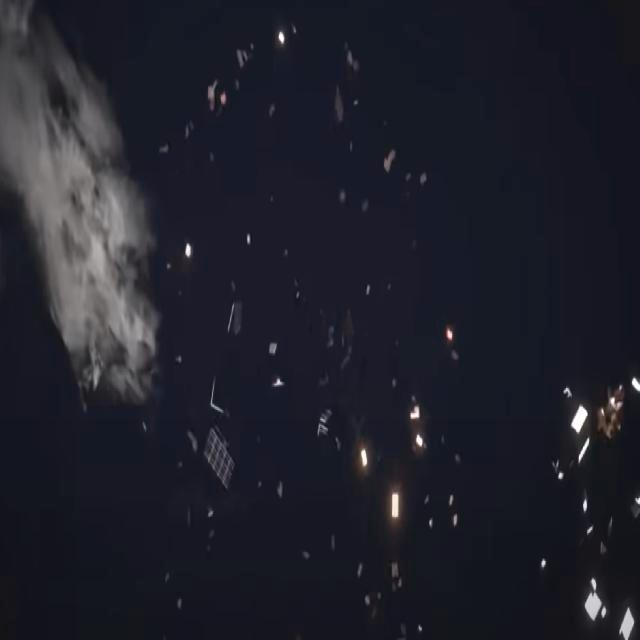large_debris: (203, 424, 237, 499), (595, 374, 629, 448), (570, 399, 591, 444), (227, 294, 244, 340), (317, 402, 334, 442), (390, 485, 400, 527), (266, 338, 279, 362), (359, 442, 369, 472), (599, 537, 607, 559)
